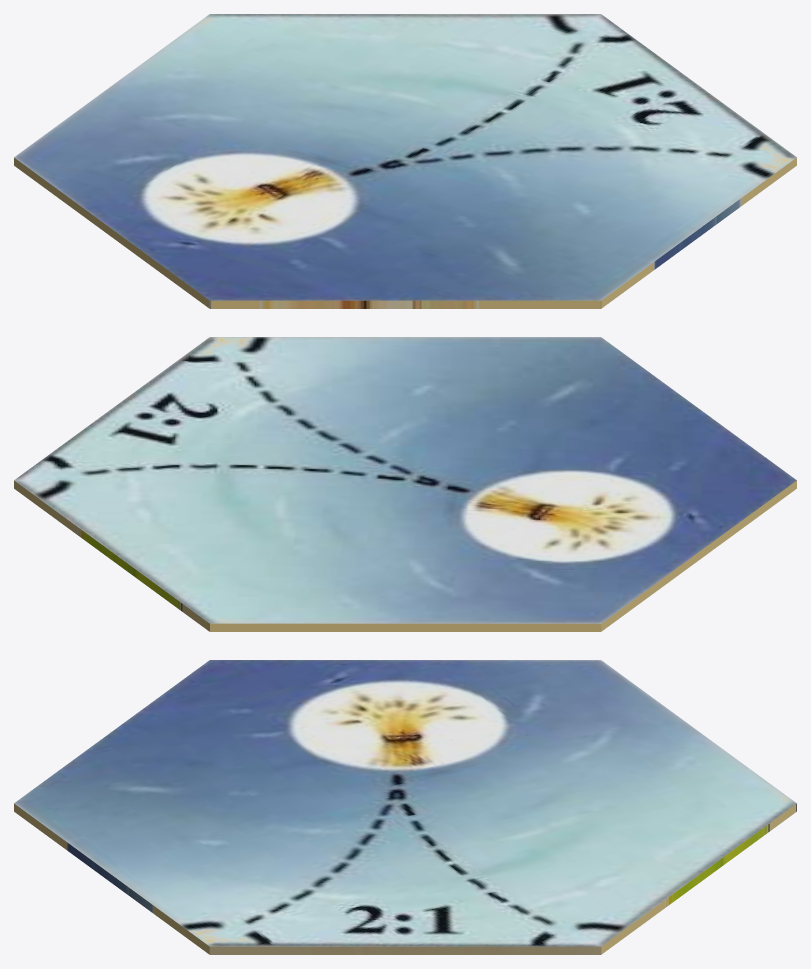
File: trade_wheat.obj
3 renders of one model, top to bottom at view 1: azimuth 30°, elevation 25°; view 2: azimuth 150°, elevation 25°; view 3: azimuth 270°, elevation 25°, orthographic.
Parts seen in each view (by area): view 1: trade_wheat; view 2: trade_wheat; view 3: trade_wheat.
Boxes of the visible parts, <box> form: trade_wheat: <box>14,14,796,308</box>; trade_wheat: <box>14,337,796,631</box>; trade_wheat: <box>14,660,796,954</box>.
Size of the model in its own units: 1.73 by 0.0232 by 2.
